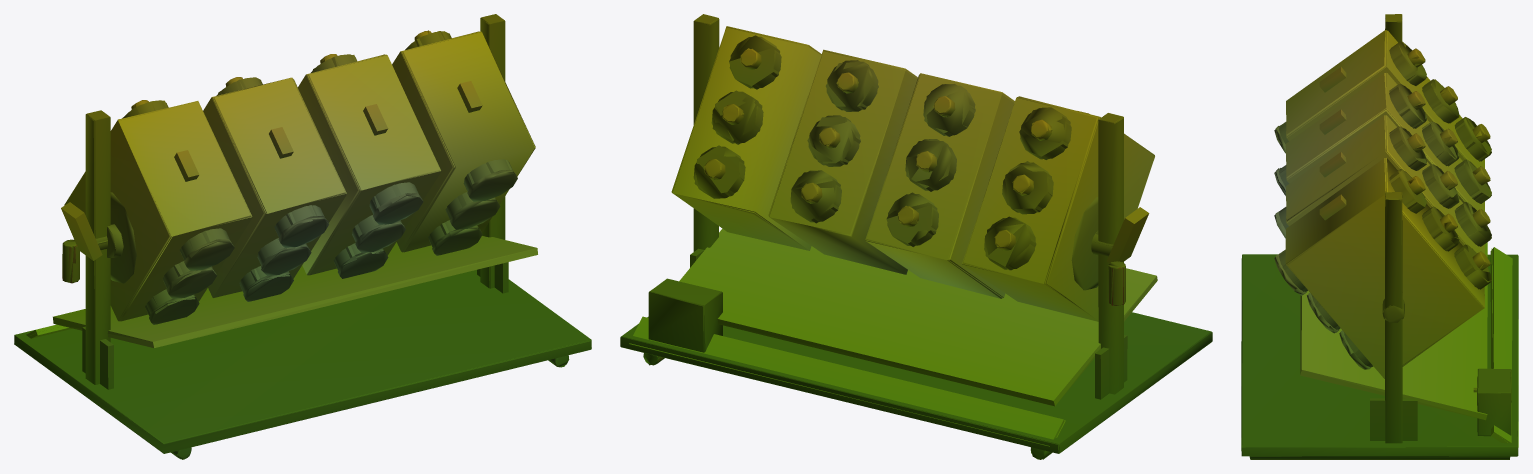
File: RCLModule_bulwark_siege_tank_minefield_ordnance_carrier_LODs.fbx
3 renders of one model, left to right at view 1: azimuth 30°, elevation 25°; view 2: azimuth 150°, elevation 25°; view 3: azimuth 270°, elevation 25°, orthographic. The views are drawn at different scales.
Parts seen in each view (by area): view 1: LOD1_RCLModule_bulwark_siege_tank_minefield_ordnance_carrier (×3), LOD2_RCLModule_bulwark_siege_tank_minefield_ordnance_carrier (×2); view 2: LOD1_RCLModule_bulwark_siege_tank_minefield_ordnance_carrier (×3), LOD2_RCLModule_bulwark_siege_tank_minefield_ordnance_carrier (×3); view 3: LOD1_RCLModule_bulwark_siege_tank_minefield_ordnance_carrier (×3), LOD2_RCLModule_bulwark_siege_tank_minefield_ordnance_carrier (×3).
Boxes of the visible parts, x1,y1,x2,y2 form: LOD1_RCLModule_bulwark_siege_tank_minefield_ordnance_carrier (×3): (14, 14, 591, 459); LOD2_RCLModule_bulwark_siege_tank_minefield_ordnance_carrier (×2): (14, 14, 591, 459); LOD1_RCLModule_bulwark_siege_tank_minefield_ordnance_carrier (×3): (620, 14, 1212, 459); LOD2_RCLModule_bulwark_siege_tank_minefield_ordnance_carrier (×3): (621, 18, 1212, 459); LOD1_RCLModule_bulwark_siege_tank_minefield_ordnance_carrier (×3): (1241, 14, 1518, 459); LOD2_RCLModule_bulwark_siege_tank_minefield_ordnance_carrier (×3): (1241, 14, 1517, 459).
Size of the model in its own units: 67.97 by 42.67 by 40.01.
